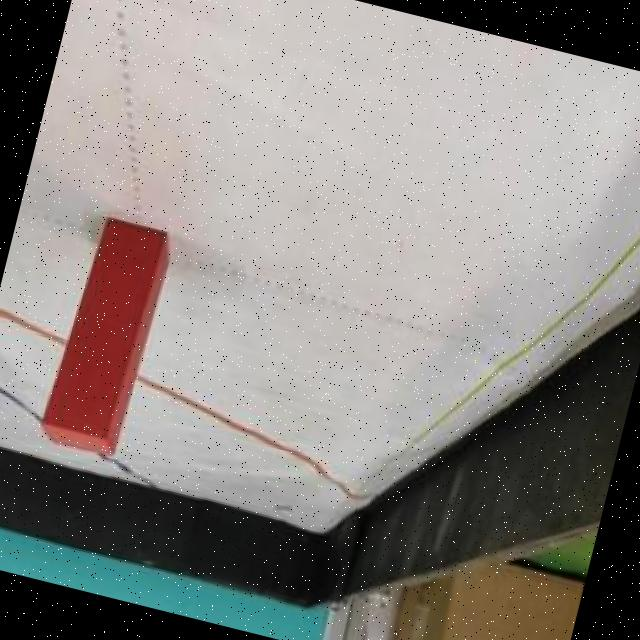redbox: (38, 212, 175, 462)
